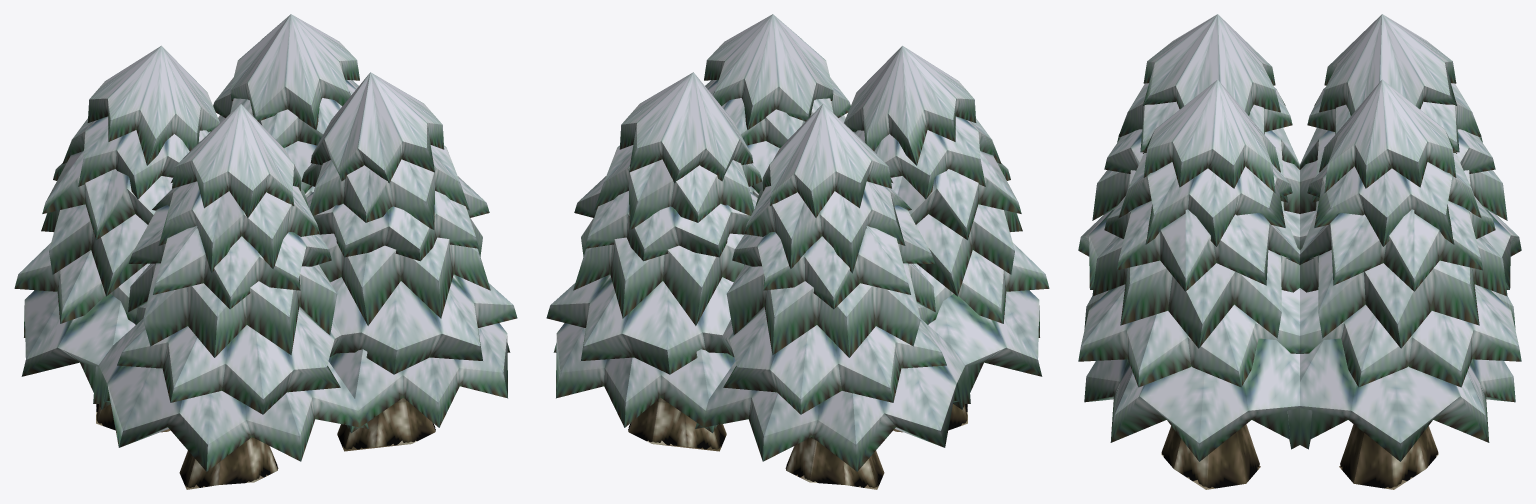
The model's file is Poly_Pine_Tree_03_Snow_Multiple.obj.
3 views of the same model, side by side, from view 1: azimuth 30°, elevation 25°; view 2: azimuth 150°, elevation 25°; view 3: azimuth 270°, elevation 25° (orthographic). The views are drawn at different scales.
Parts seen in each view (by area): view 1: Cube.006_Cube.001; view 2: Cube.006_Cube.001; view 3: Cube.006_Cube.001.
Boxes of the visible parts, x1,y1,x2,y2 form: Cube.006_Cube.001: [14, 14, 517, 489]; Cube.006_Cube.001: [546, 14, 1049, 489]; Cube.006_Cube.001: [1078, 14, 1521, 489].
Bounding box in the file's own units: 6.1 × 5.47 × 5.78.
Materials: 1 (1 with a texture image).
